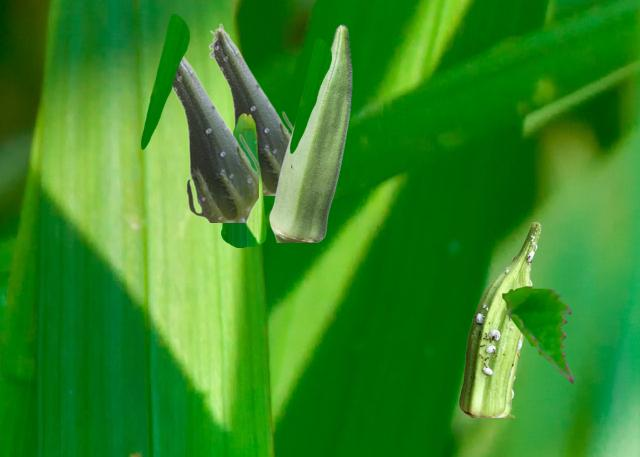okra: (269, 24, 351, 241), (459, 222, 540, 416), (208, 23, 292, 194), (172, 56, 257, 221)
